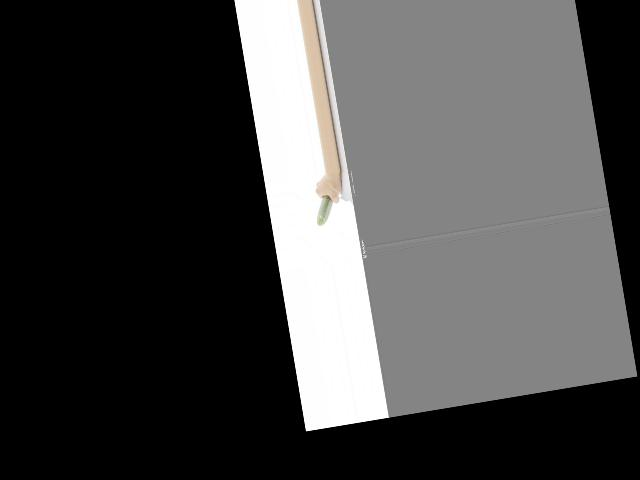cucumber: (313, 194, 336, 226)
